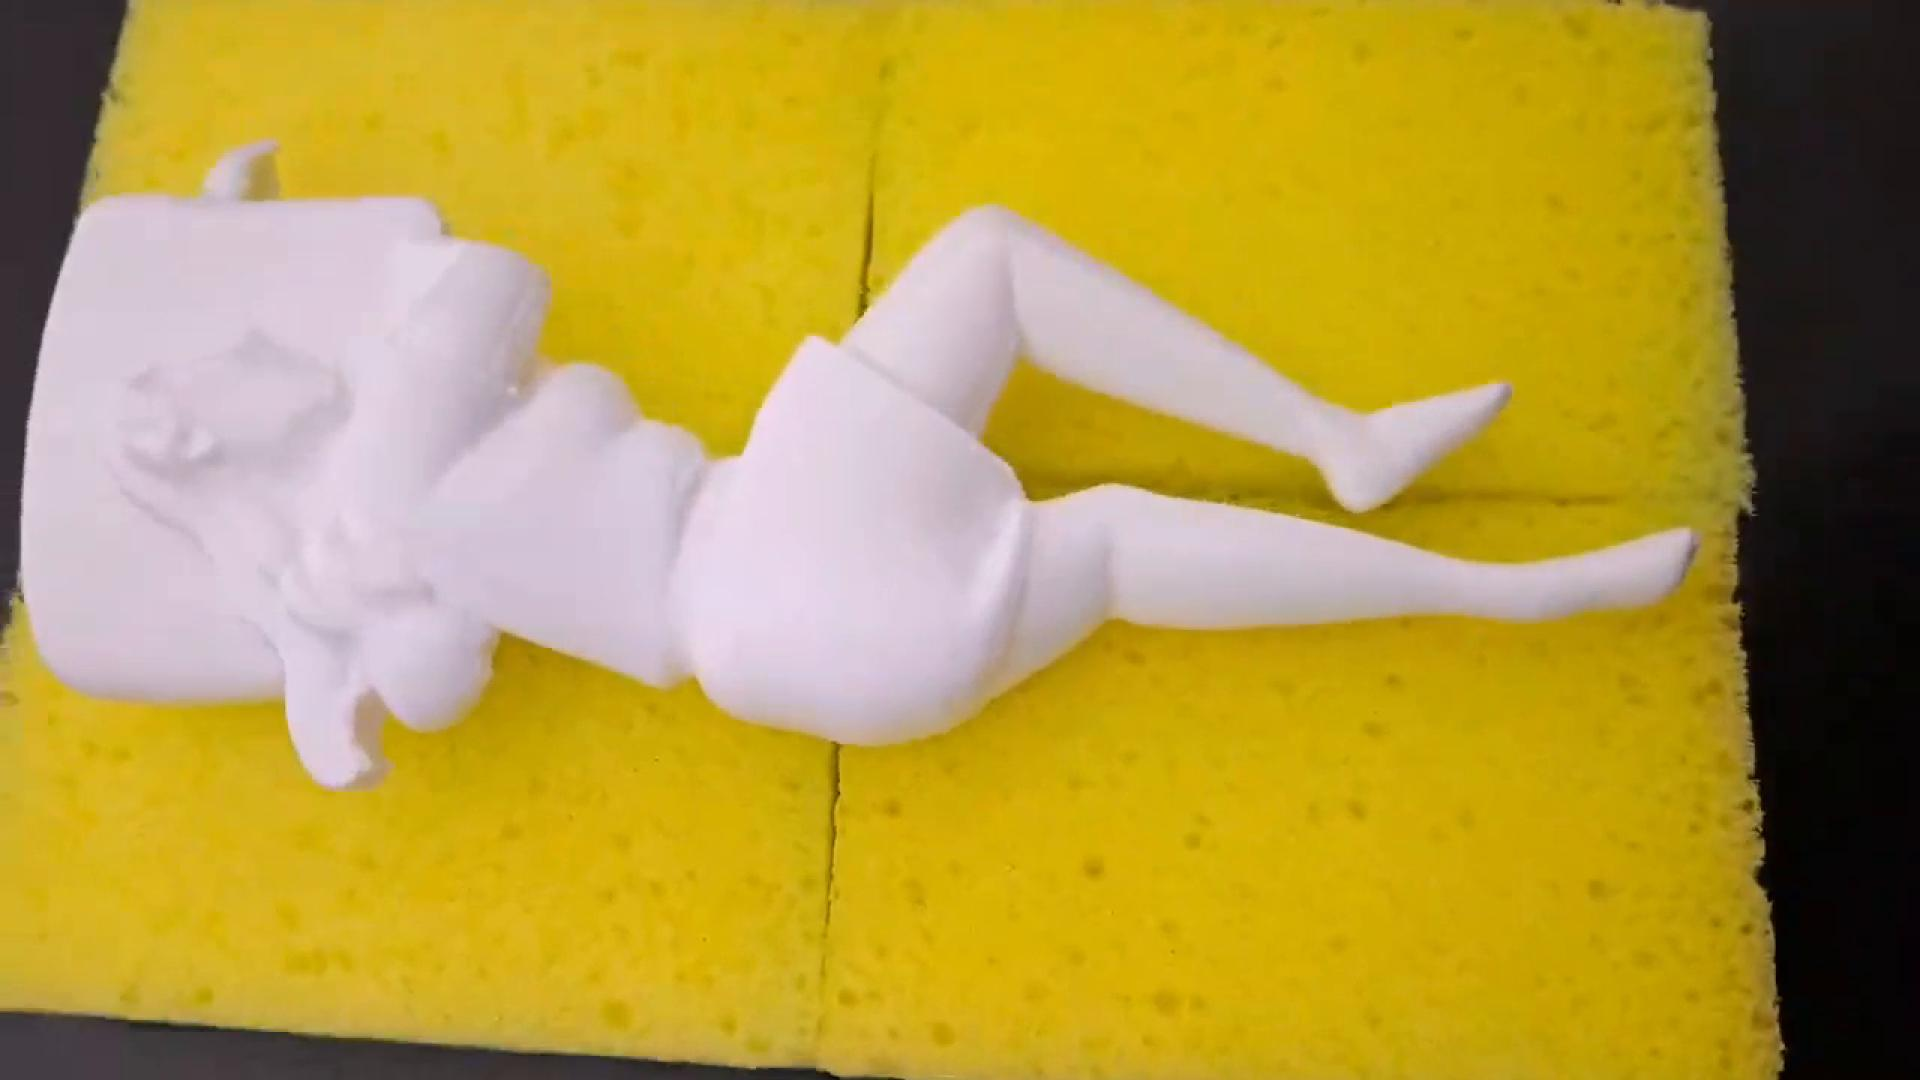Good-style: (18, 138, 1692, 791)
